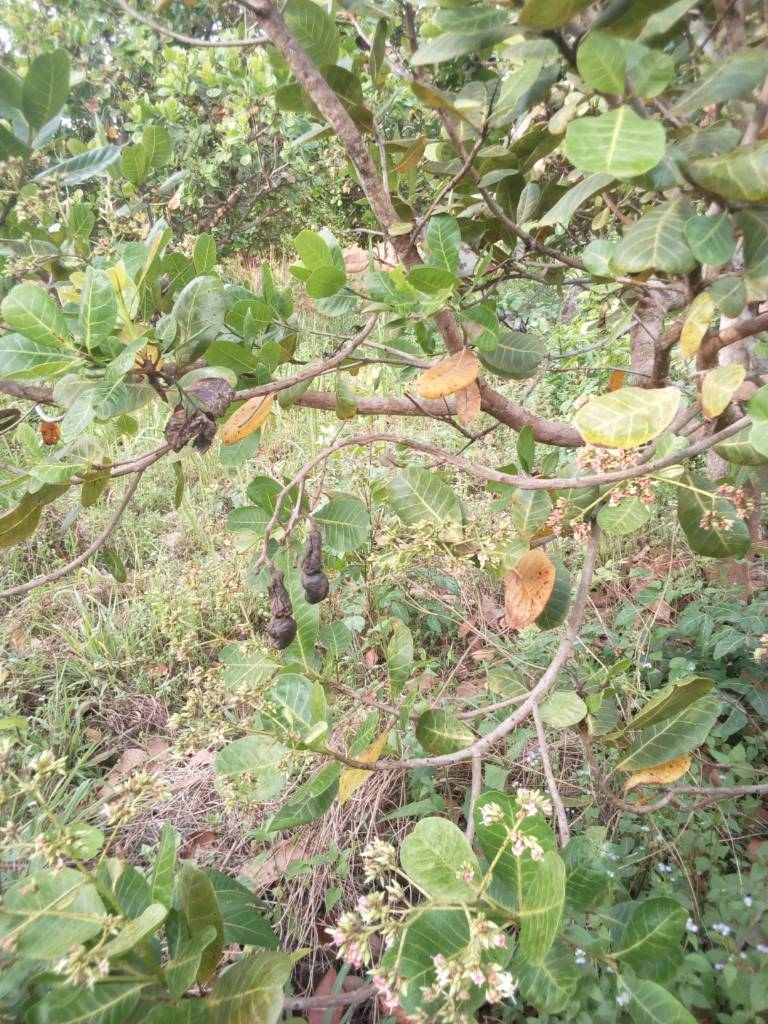Die-black: (249, 571, 307, 675), (287, 521, 345, 613), (190, 366, 240, 435), (156, 403, 206, 464)
